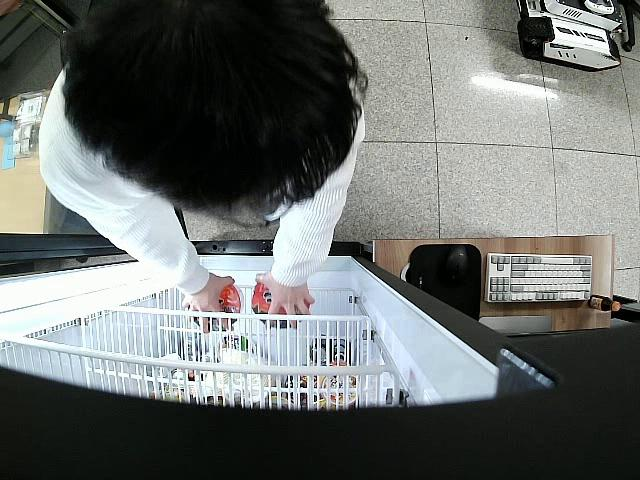00_hand: (254, 271, 316, 330), (181, 273, 235, 333)
01_shinRamen_L: (252, 281, 309, 329), (187, 283, 242, 331)
